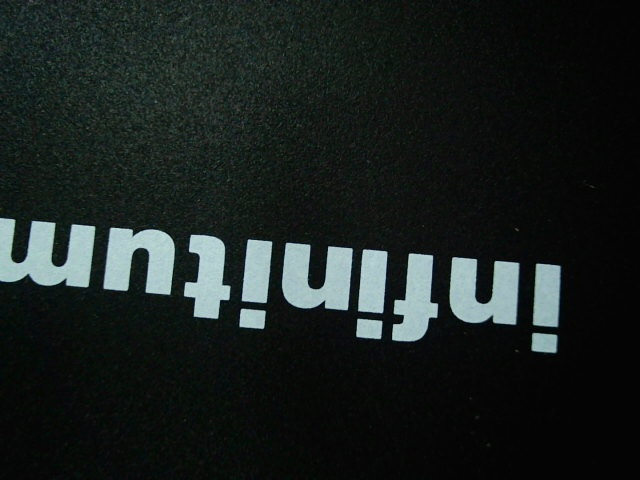BK_infinitum: (5, 211, 573, 355)
